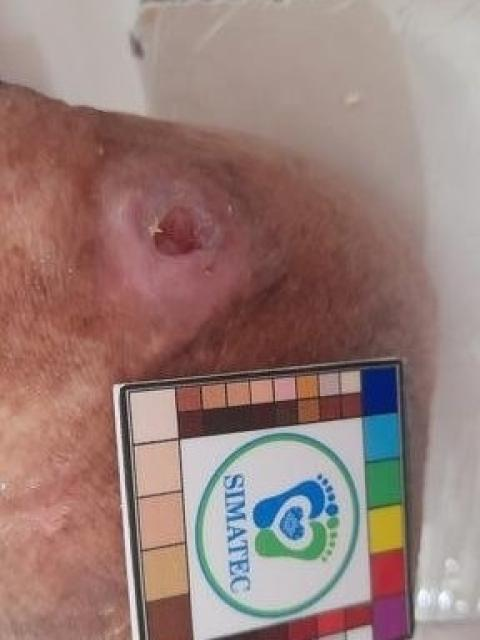wound: (148, 201, 216, 259)
